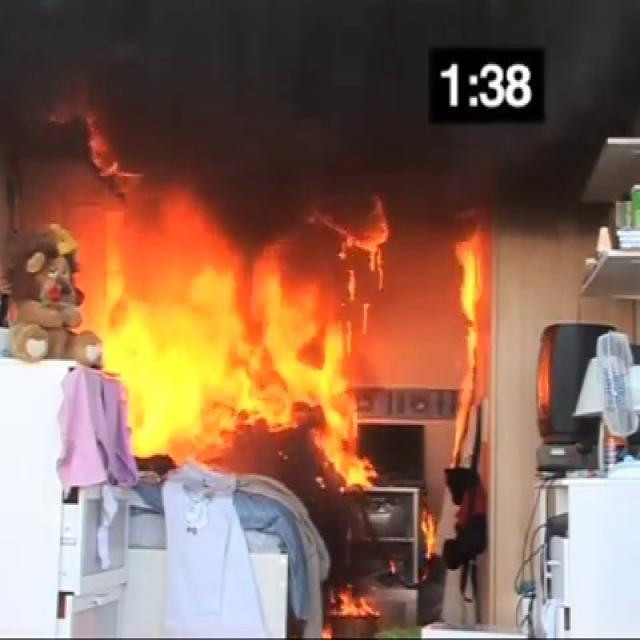Fire: (68, 188, 383, 466), (454, 226, 493, 495), (326, 584, 383, 620), (419, 498, 440, 575), (320, 625, 337, 638)
Smoke: (115, 27, 434, 162), (545, 8, 638, 132)
